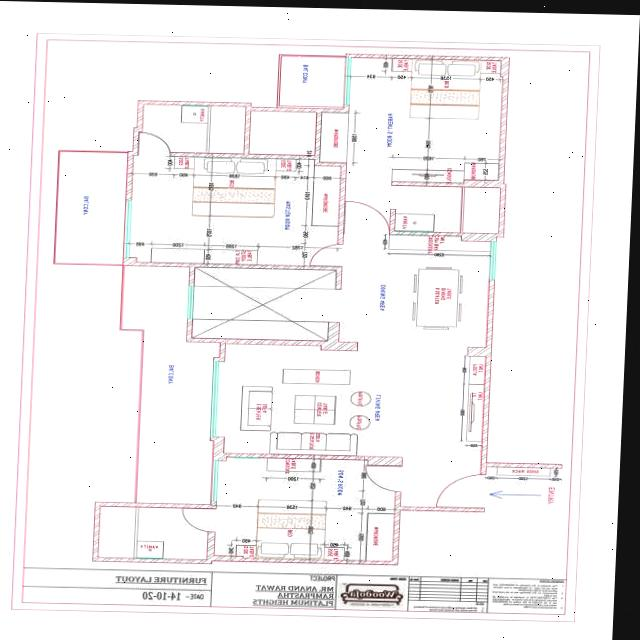room: (137, 154, 342, 267), (320, 56, 501, 183), (122, 264, 214, 503), (224, 343, 406, 457), (215, 456, 396, 561), (338, 231, 491, 355), (193, 266, 336, 340), (54, 148, 128, 266), (98, 505, 208, 558), (139, 104, 244, 153), (395, 186, 500, 232), (281, 54, 346, 107)
